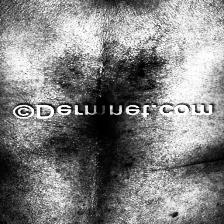Toxin: (128, 51, 182, 87)
